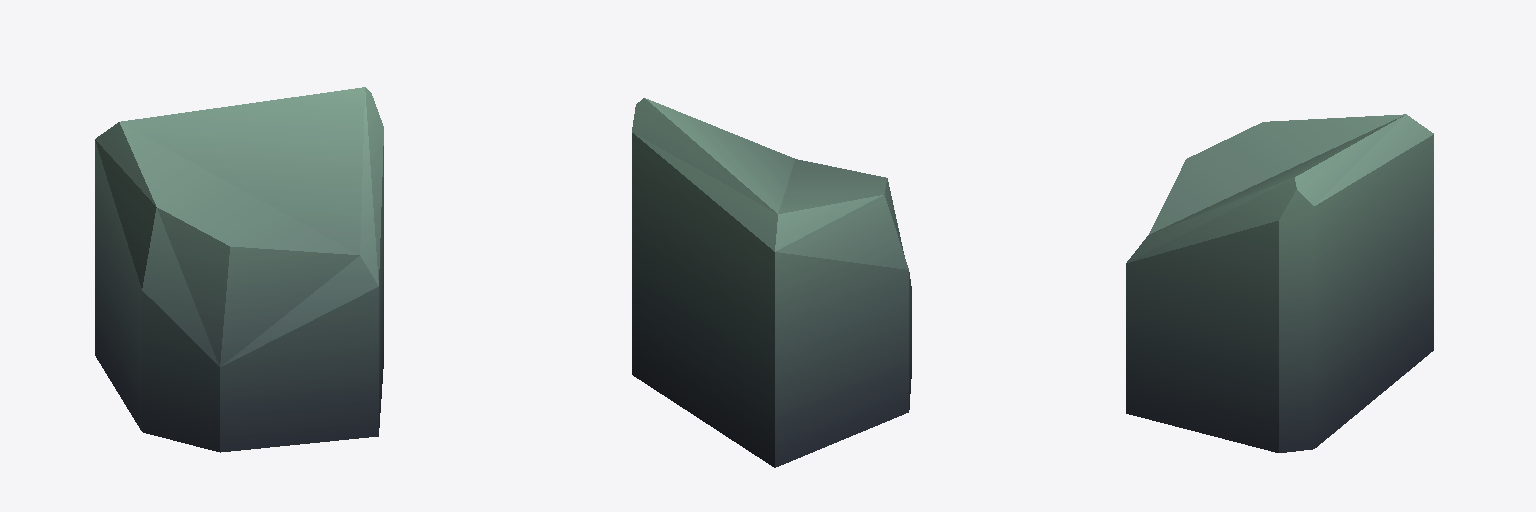
3 renders of one model, left to right at view 1: azimuth 30°, elevation 25°; view 2: azimuth 150°, elevation 25°; view 3: azimuth 270°, elevation 25°, orthographic.
Visible parts, largest first — view 1: Cube.016_Cube.089; view 2: Cube.016_Cube.089; view 3: Cube.016_Cube.089.
Boxes of the visible parts, x1,y1,x2,y2 form: Cube.016_Cube.089: [95, 87, 383, 452]; Cube.016_Cube.089: [632, 98, 911, 467]; Cube.016_Cube.089: [1126, 114, 1433, 452].
Size of the model in its own units: 3.37 by 3.41 by 3.53.
1 materials, 1 textured.